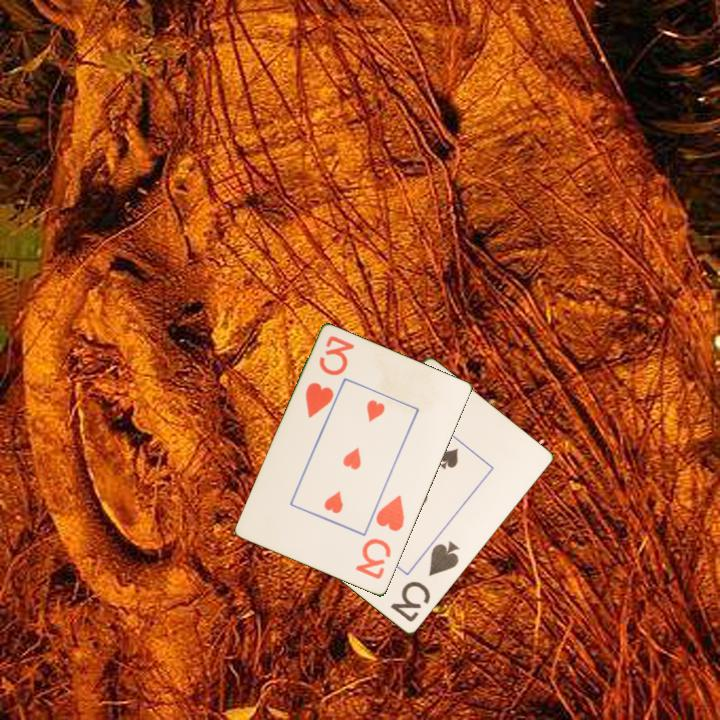3h: (352, 492, 408, 583), (302, 332, 358, 422)
3s: (387, 537, 462, 626)
